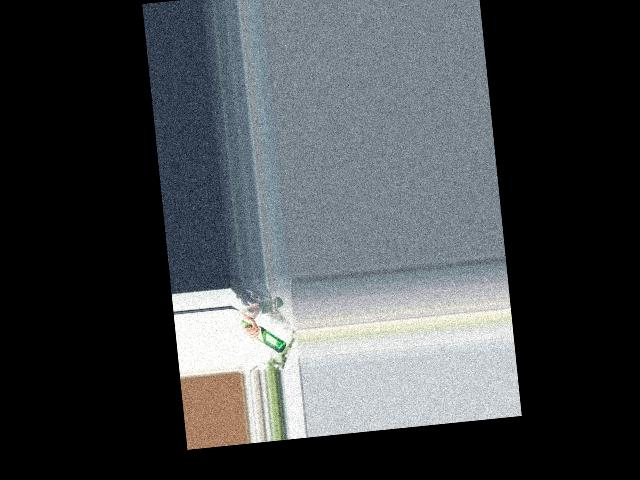beer: (240, 315, 287, 356)
